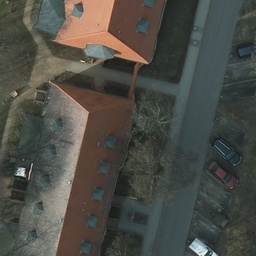car: (210, 139, 242, 166), (205, 162, 237, 189), (187, 241, 218, 255)
